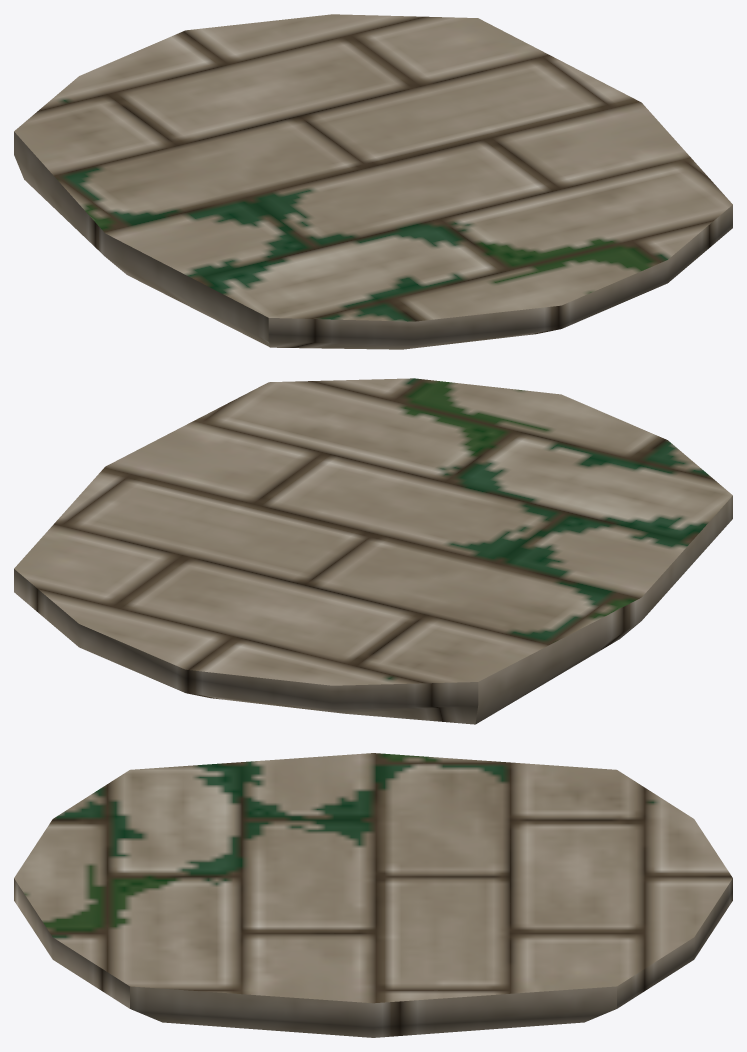
File: BrickPlatform.fbx
The picture shows the model from 3 angles, top to bottom: view 1: azimuth 30°, elevation 25°; view 2: azimuth 150°, elevation 25°; view 3: azimuth 270°, elevation 25°; orthographic projection. The views are drawn at different scales.
Visible parts, largest first — view 1: pasted__pasted__polySurface225; view 2: pasted__pasted__polySurface225; view 3: pasted__pasted__polySurface225.
Boxes of the visible parts, x1=… form: pasted__pasted__polySurface225: x1=14, y1=14, x2=732, y2=349; pasted__pasted__polySurface225: x1=14, y1=378, x2=732, y2=724; pasted__pasted__polySurface225: x1=14, y1=753, x2=732, y2=1037.
Bounding box in the file's own units: 2.64 × 0.4199 × 3.2.
Materials: 1 (1 with a texture image).
